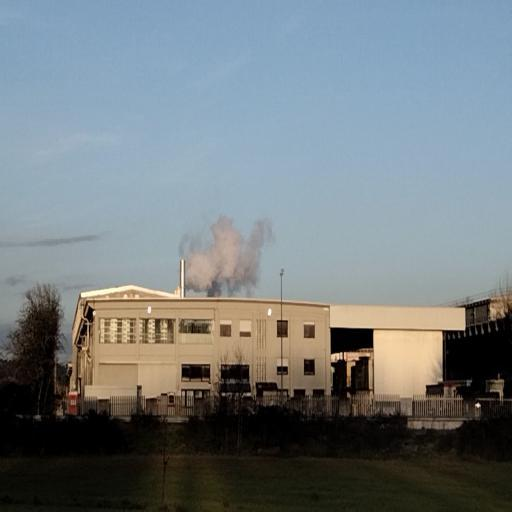leakage: (178, 202, 276, 300)
